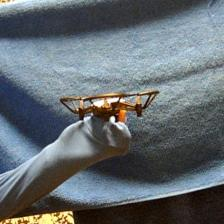drone: (59, 90, 164, 120)
